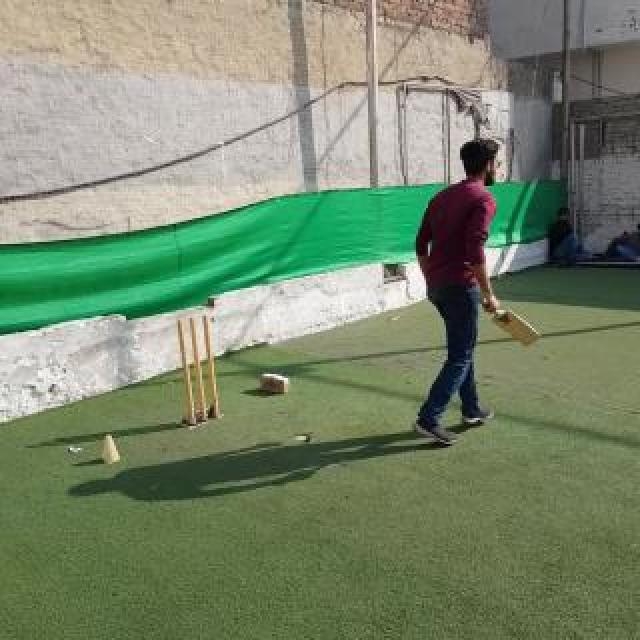bat: (478, 294, 540, 348)
